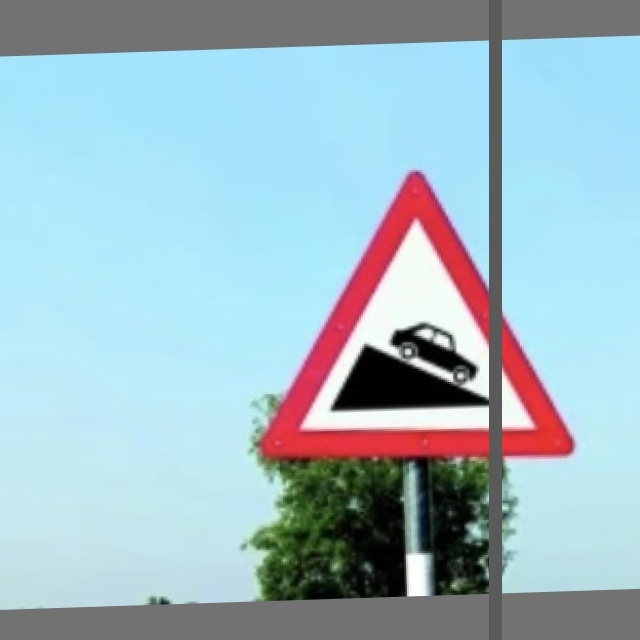Steep_Descent: (247, 163, 587, 470)
